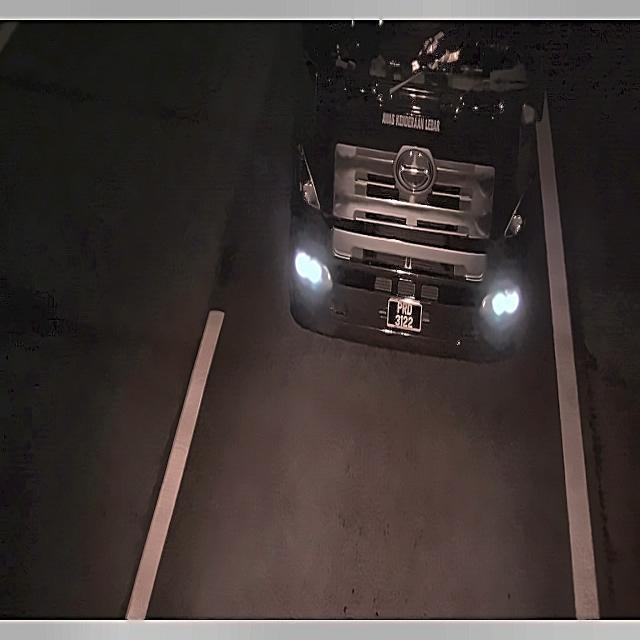car: (387, 290, 423, 338)
